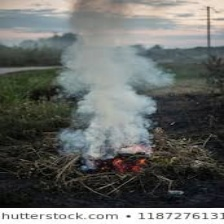smoke: (67, 2, 157, 155)
